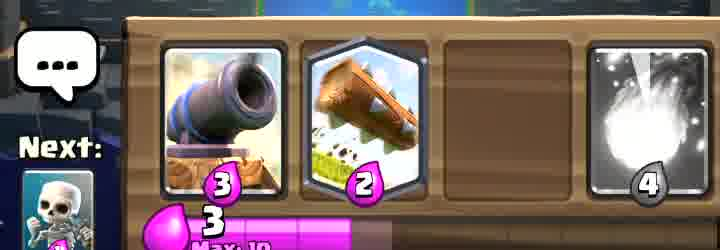log: (310, 42, 423, 190)
skeleton: (24, 171, 93, 250)
